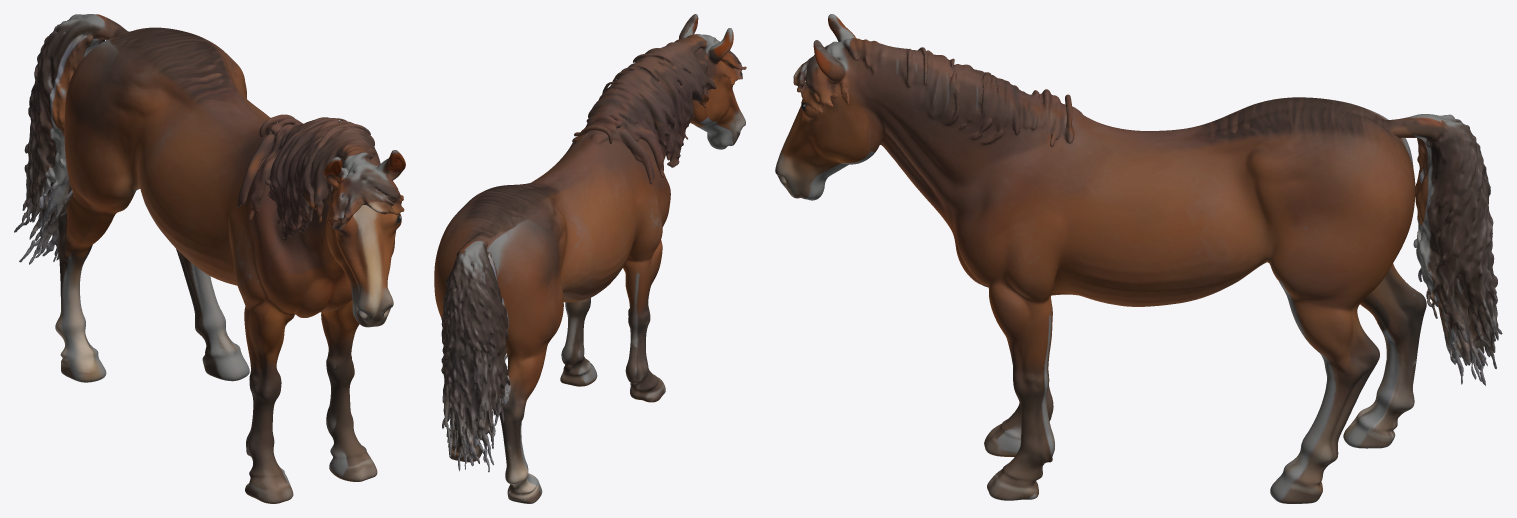
File: wild chestnut stallion 3d model.glb
3 renders of one model, left to right at view 1: azimuth 30°, elevation 25°; view 2: azimuth 150°, elevation 25°; view 3: azimuth 270°, elevation 25°, orthographic. The views are drawn at different scales.
Visible parts, largest first — view 1: tripo_node_c3b77283-be13-4daf-9179-6c73bfd10117; view 2: tripo_node_c3b77283-be13-4daf-9179-6c73bfd10117; view 3: tripo_node_c3b77283-be13-4daf-9179-6c73bfd10117.
Boxes of the visible parts, x1=… form: tripo_node_c3b77283-be13-4daf-9179-6c73bfd10117: x1=14, y1=14, x2=405, y2=503; tripo_node_c3b77283-be13-4daf-9179-6c73bfd10117: x1=434, y1=14, x2=746, y2=503; tripo_node_c3b77283-be13-4daf-9179-6c73bfd10117: x1=775, y1=14, x2=1502, y2=503.
Bounding box in the file's own units: 0.2454 × 0.6462 × 1.
1 material, 1 textured.
